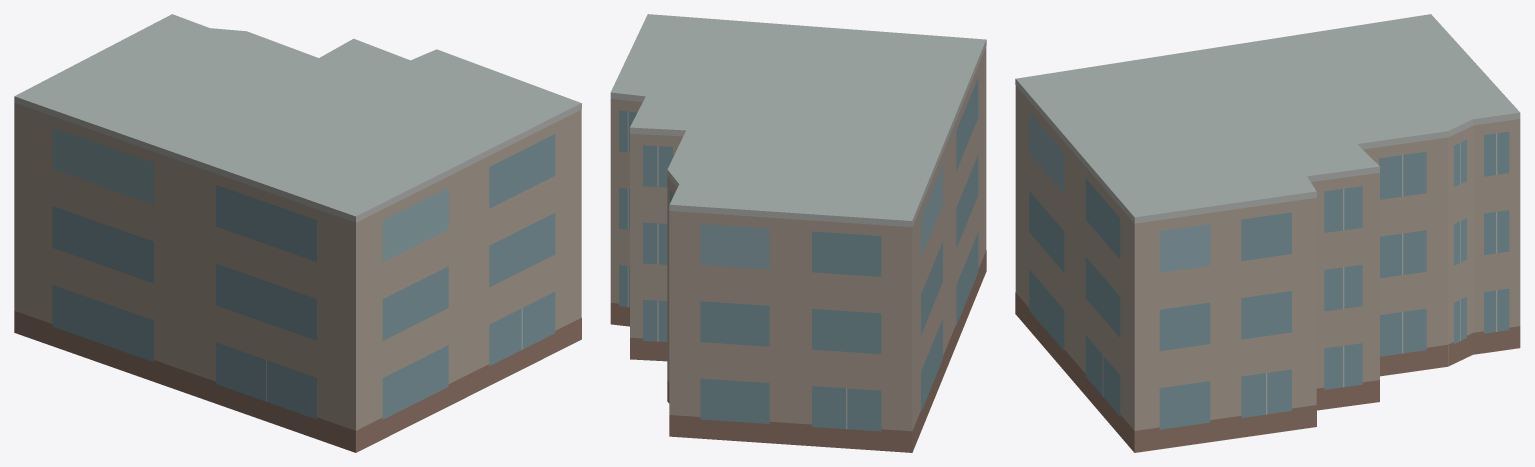
Rendered from survey-upis-32759740.glb.
The picture shows the model from 3 angles, left to right: view 1: azimuth 30°, elevation 25°; view 2: azimuth 150°, elevation 25°; view 3: azimuth 270°, elevation 25°; orthographic projection.
Parts seen in each view (by area): view 1: survey-upis-32759740.tmp; view 2: survey-upis-32759740.tmp; view 3: survey-upis-32759740.tmp.
Part boxes in pixels (box(x1,y1,x2,y2)): survey-upis-32759740.tmp: box(14, 14, 581, 452); survey-upis-32759740.tmp: box(610, 14, 986, 452); survey-upis-32759740.tmp: box(1015, 14, 1520, 452).
Size of the model in its own units: 16.97 by 9.15 by 17.79.
